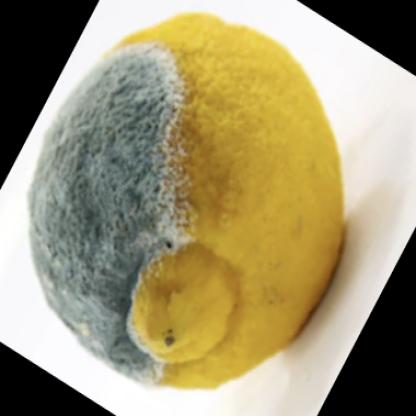rotten: (30, 15, 346, 391)
